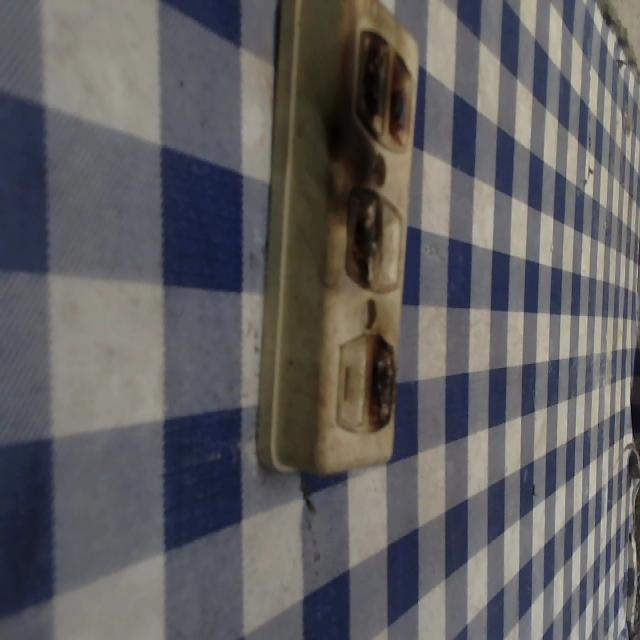-: (349, 16, 414, 155), (341, 177, 381, 288), (366, 325, 397, 436)
